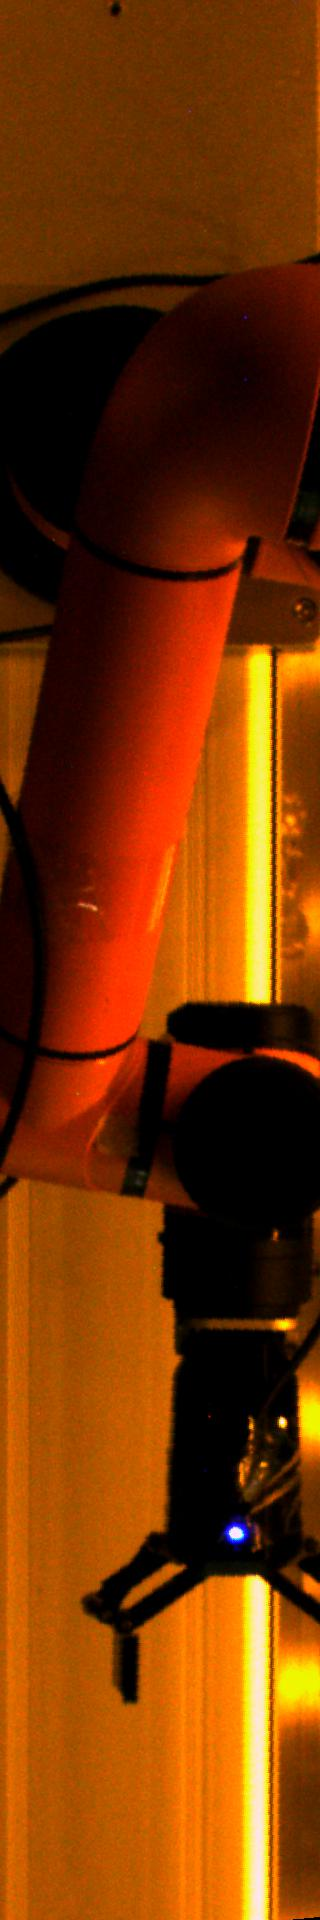keyPoint_1: (221, 1515, 251, 1545)
